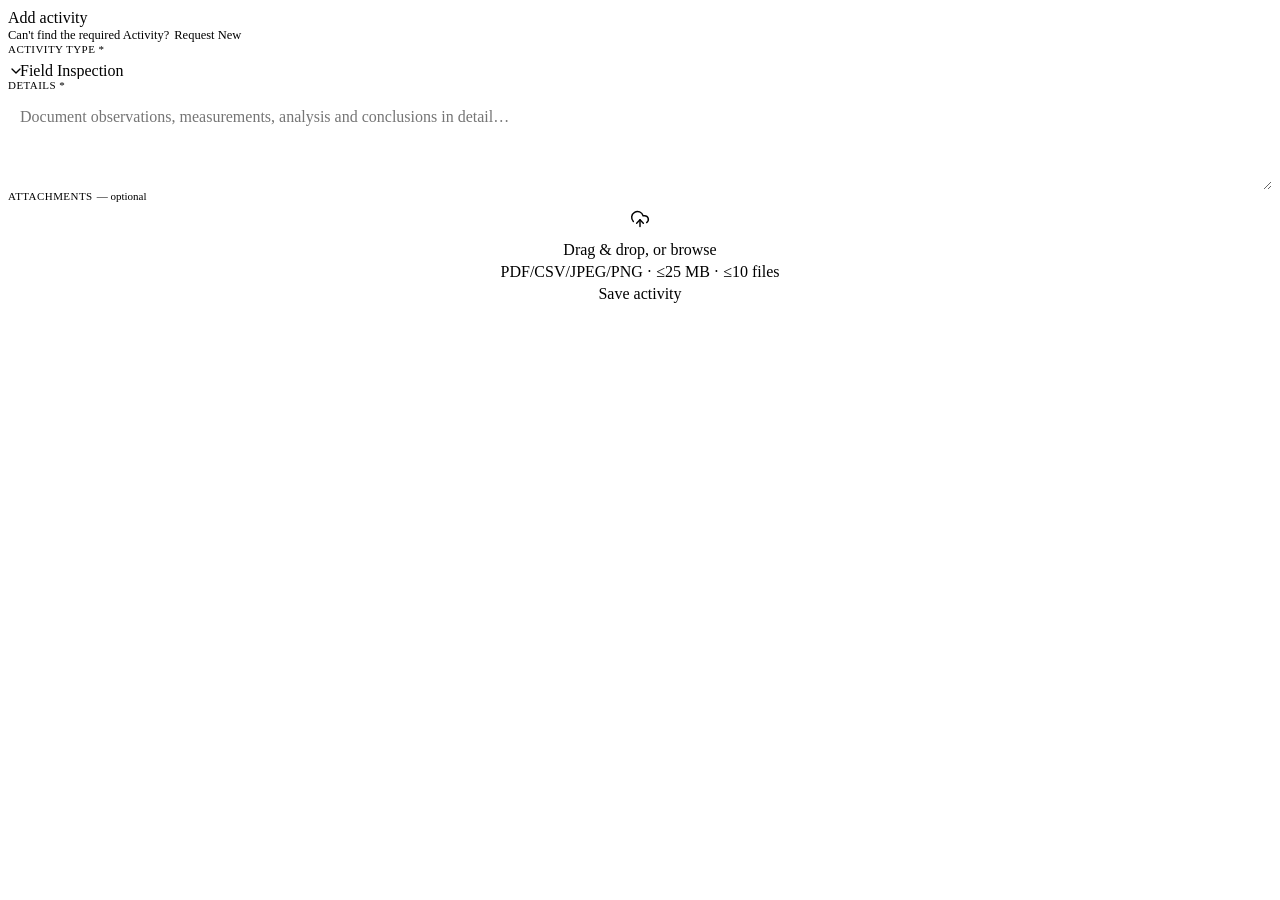
Scenario: the two add-paths are wired to the right fields › Part number opens the MULTI-ROW MODAL, not an inline input
Select "PQ Evaluation" in the dropdown named "Activity type" at (640, 70), box top-left (8, 62), bottom-right (1272, 79)
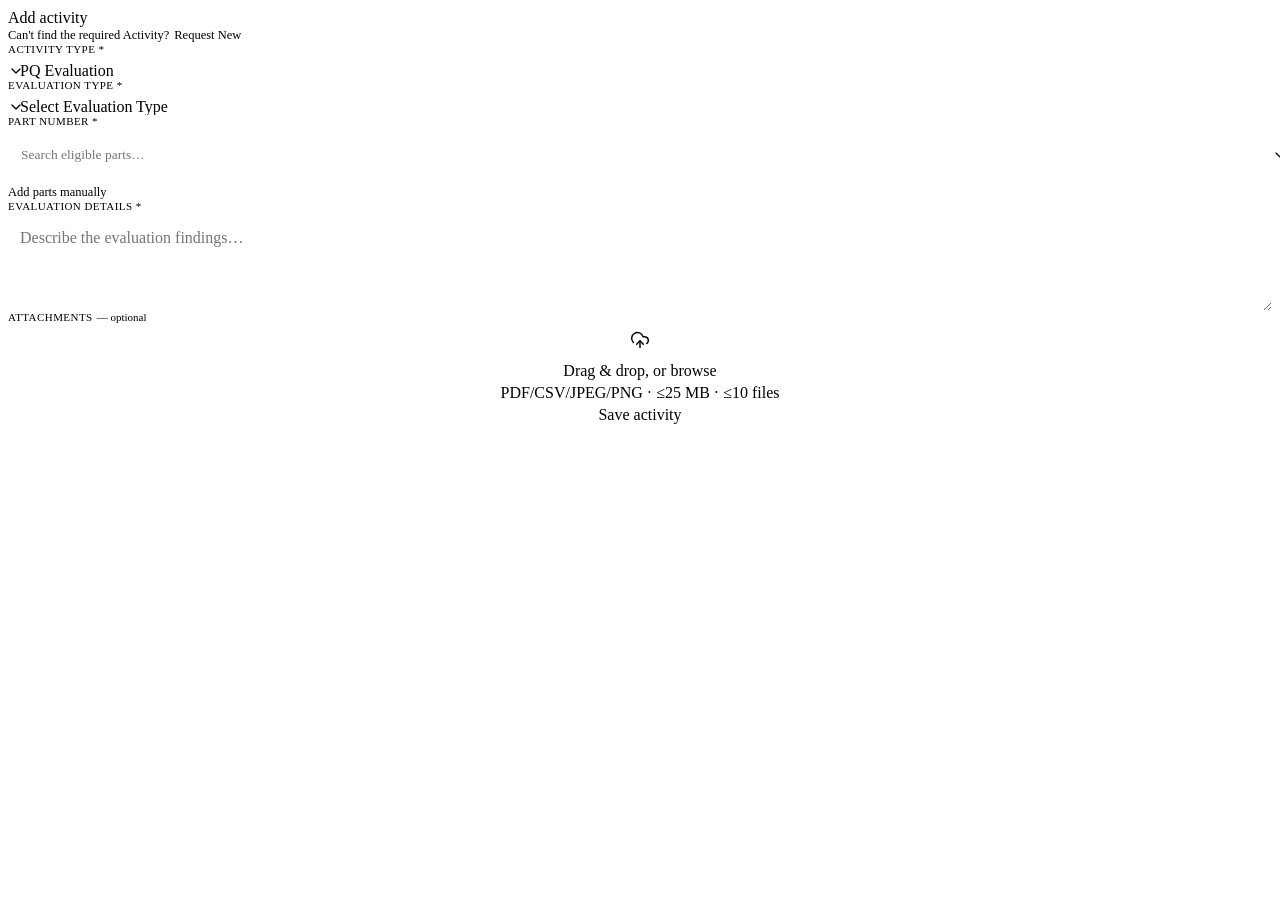
Click the button "Add parts manually".
click(57, 192)  # box top-left (8, 185), bottom-right (107, 200)
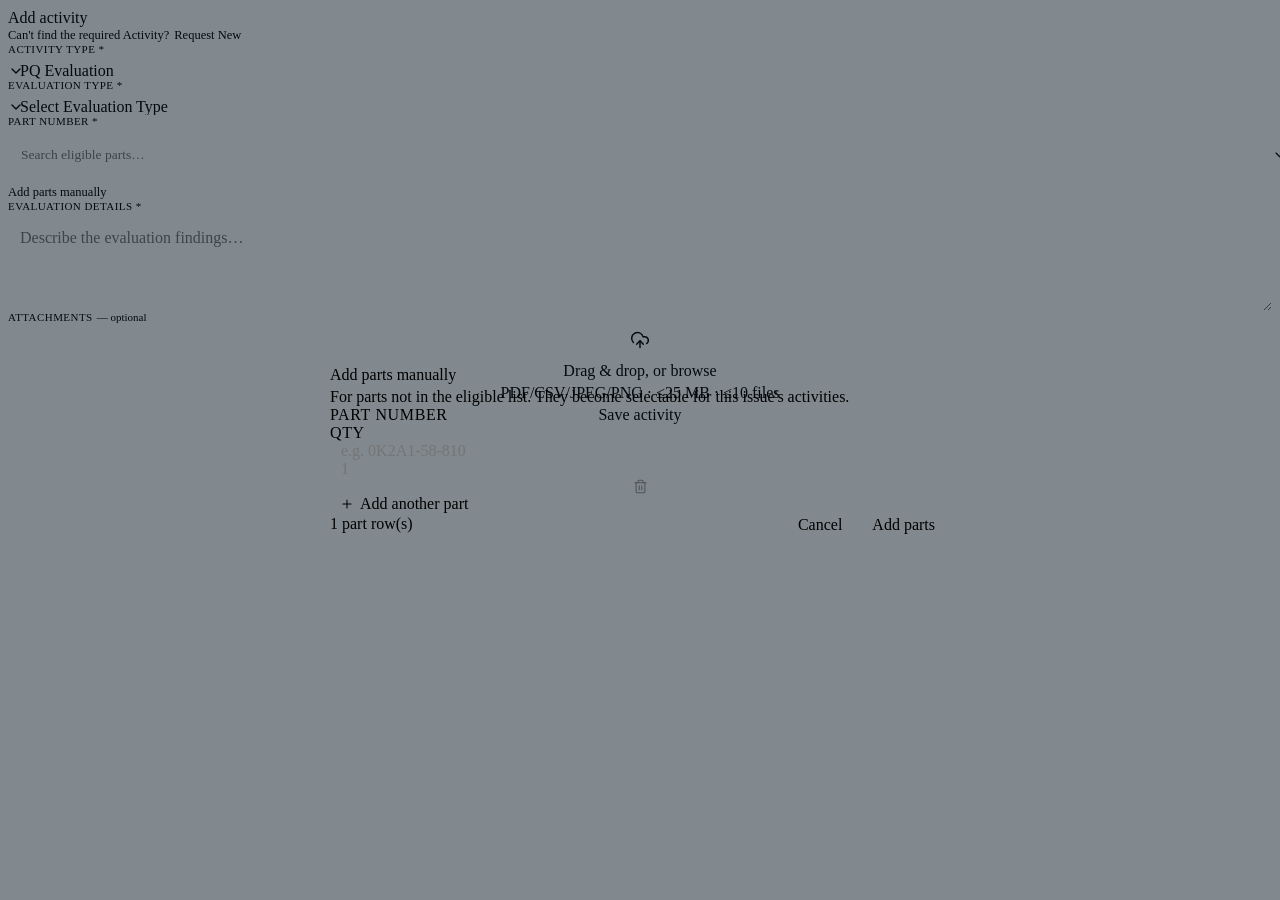
Now the element with test id "multi-row-draft-modal" is shown, box top-left (330, 406), bottom-right (950, 514)
Now the field named "Qty 1" is shown, box top-left (330, 460), bottom-right (950, 478)
